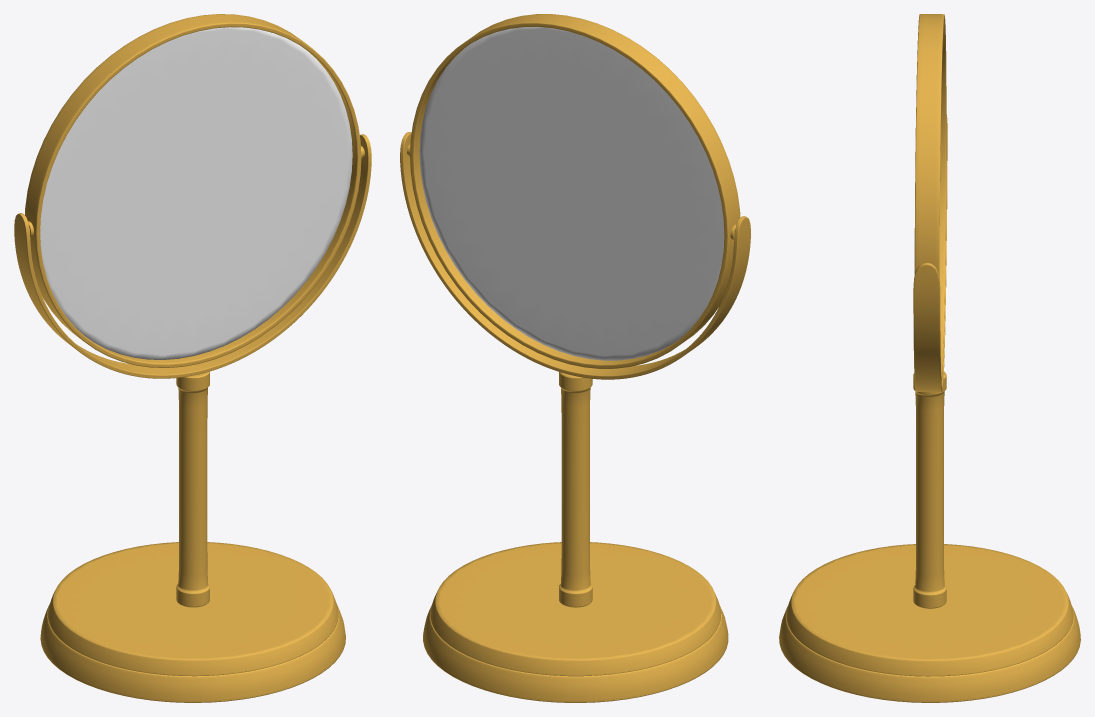
File: modern_beauty_mirror_3d_model.glb
3 renders of one model, left to right at view 1: azimuth 30°, elevation 25°; view 2: azimuth 150°, elevation 25°; view 3: azimuth 270°, elevation 25°, orthographic.
Parts seen in each view (by area): view 1: Circle.006, Circle.001, Circle.004, Circle, Circle.002, Circle.003; view 2: Circle.006, Circle.001, Circle.004, Circle, Circle.002, Circle.003; view 3: Circle.001, Circle, Circle.004, Circle.002, Circle.003.
Boxes of the visible parts, x1,y1,x2,y2 form: Circle.006: (40, 27, 352, 359); Circle.001: (47, 542, 338, 676); Circle.004: (25, 14, 361, 367); Circle: (40, 604, 345, 702); Circle.002: (176, 371, 209, 607); Circle.003: (14, 134, 371, 378); Circle.006: (419, 27, 724, 360); Circle.001: (430, 542, 721, 676); Circle.004: (410, 14, 740, 368); Circle: (423, 605, 728, 702); Circle.002: (559, 372, 592, 607); Circle.003: (400, 132, 750, 379); Circle.001: (786, 544, 1073, 676); Circle: (779, 606, 1080, 702); Circle.004: (914, 14, 946, 380); Circle.002: (913, 371, 946, 608); Circle.003: (913, 114, 947, 391).
Size of the model in its own units: 1.54 by 2.65 by 1.19.
